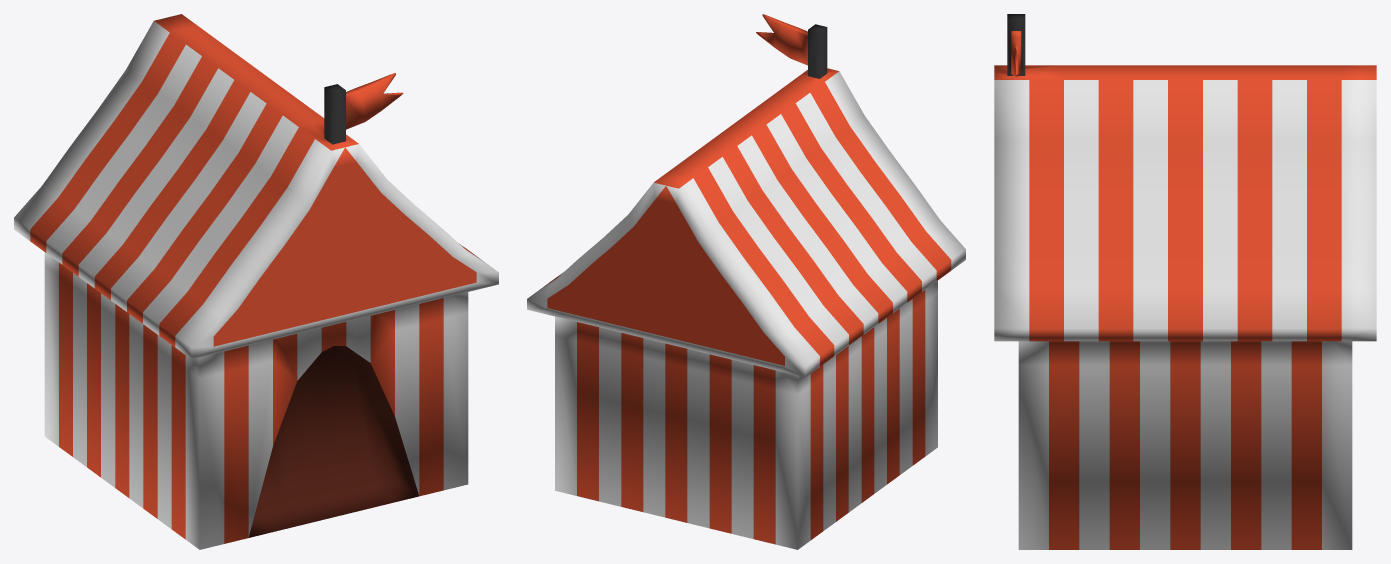
The model's file is barraca generica.fbx.
3 views of the same model, side by side, from view 1: azimuth 30°, elevation 25°; view 2: azimuth 150°, elevation 25°; view 3: azimuth 270°, elevation 25° (orthographic). The views are drawn at different scales.
Visible parts, largest first — view 1: Barraca longa generica; view 2: Barraca longa generica; view 3: Barraca longa generica.
Part boxes in pixels (x1,y1,x2,y2): Barraca longa generica: [14, 14, 498, 549]; Barraca longa generica: [527, 14, 965, 549]; Barraca longa generica: [994, 14, 1376, 549].
Size of the model in its own units: 1846 by 2470 by 1846.
